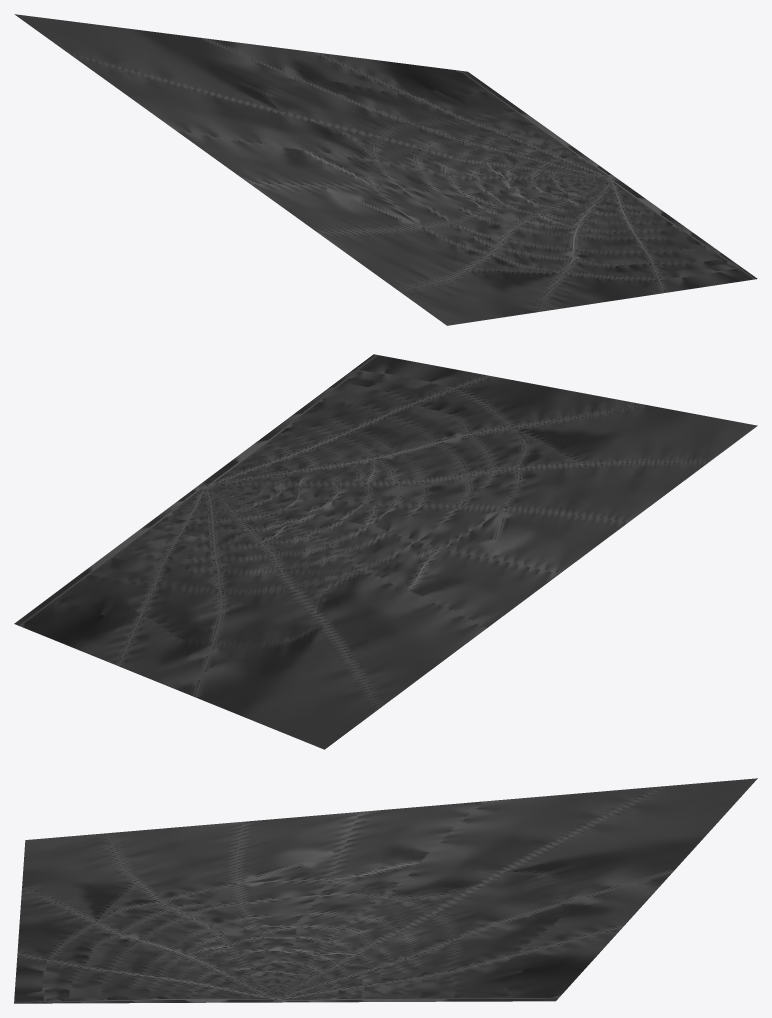
Rendered from MEP_C_SpiderWeb_01.fbx.
3 renders of one model, top to bottom at view 1: azimuth 30°, elevation 25°; view 2: azimuth 150°, elevation 25°; view 3: azimuth 270°, elevation 25°, orthographic. The views are drawn at different scales.
Parts seen in each view (by area): view 1: MEP_SpiderWeb_01; view 2: MEP_SpiderWeb_01; view 3: MEP_SpiderWeb_01.
Part boxes in pixels (box(x1,y1,x2,y2)): MEP_SpiderWeb_01: box(14, 14, 757, 325); MEP_SpiderWeb_01: box(14, 354, 757, 749); MEP_SpiderWeb_01: box(14, 778, 757, 1003).
Bounding box in the file's own units: 1.43 × 0.2509 × 2.75.
